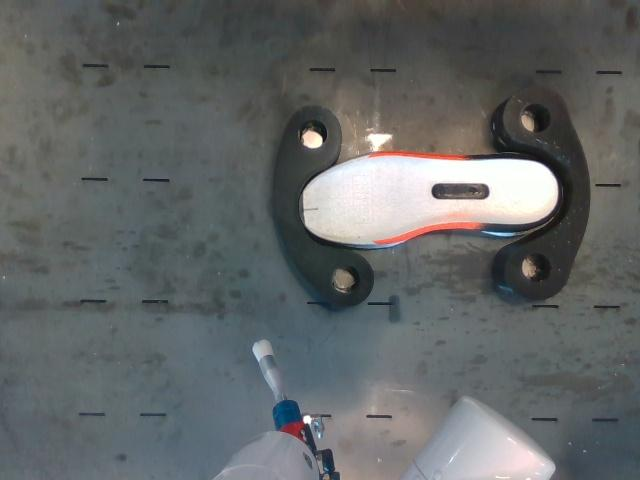shoes: (299, 157, 559, 242)
